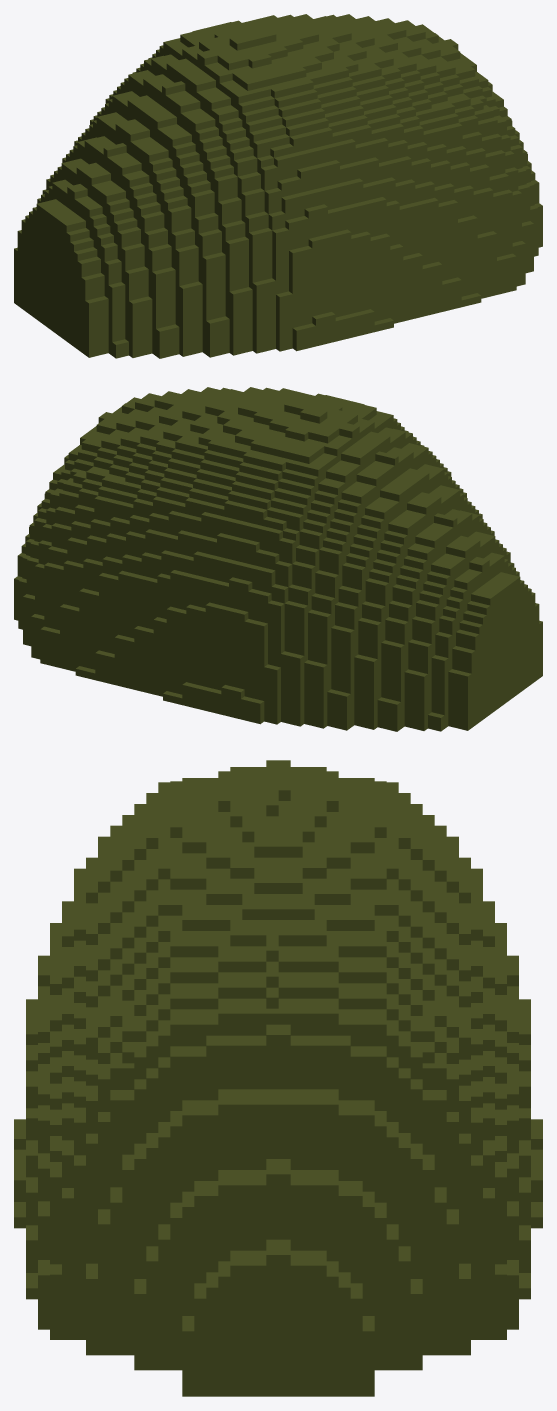
File: heavy_cargo_helicopter_front_pylon.glb
3 views of the same model, one above another, from view 1: azimuth 30°, elevation 25°; view 2: azimuth 150°, elevation 25°; view 3: azimuth 270°, elevation 25° (orthographic). The views are drawn at different scales.
Visible parts, largest first — view 1: body:compound; view 2: body:compound; view 3: body:compound.
Part boxes in pixels (<box>): body:compound: <box>14,14,542,358</box>; body:compound: <box>14,387,542,731</box>; body:compound: <box>14,760,542,1396</box>.
Bounding box in the file's own units: 2.22 × 1.16 × 1.38.
